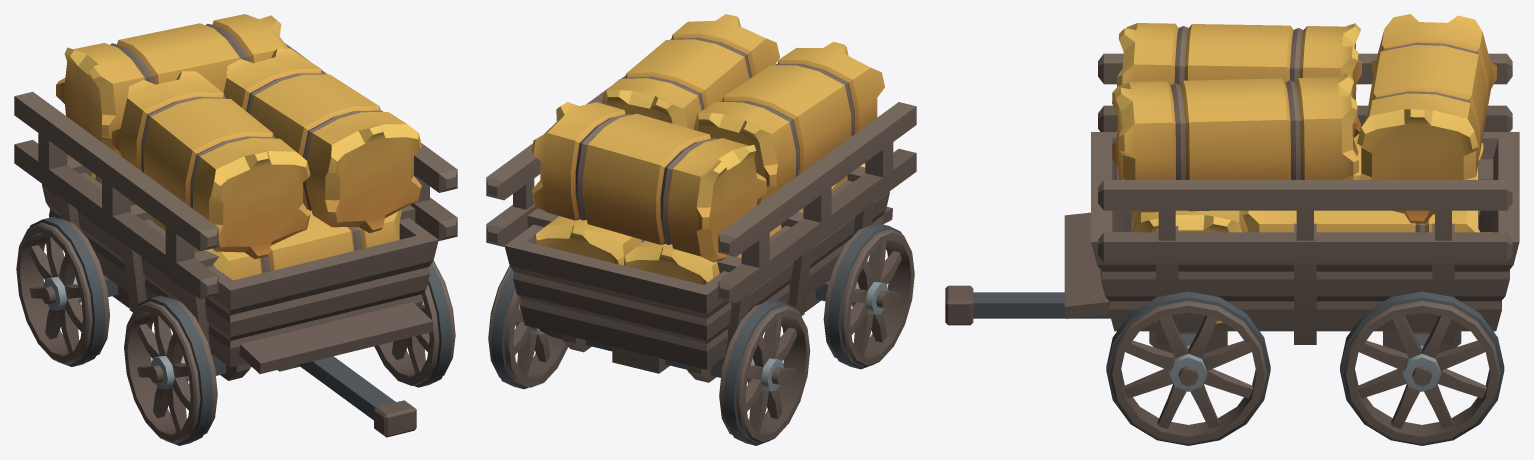
The model's file is vehicle_wagon_hay.glb.
3 renders of one model, left to right at view 1: azimuth 30°, elevation 25°; view 2: azimuth 150°, elevation 25°; view 3: azimuth 270°, elevation 25°, orthographic. The views are drawn at different scales.
Visible parts, largest first — view 1: Cube.937, wagon_hay_wheel_front_right, wagon_hay_wheel_rear_right, wagon_hay_wheel_front_left; view 2: Cube.937, wagon_hay_wheel_front_right, wagon_hay_wheel_rear_right, wagon_hay_wheel_rear_left; view 3: Cube.937, wagon_hay_wheel_front_left, wagon_hay_wheel_rear_left.
Part boxes in pixels (x1=…): Cube.937: x1=14, y1=14, x2=457, y2=437; wagon_hay_wheel_front_right: x1=124, y1=295, x2=217, y2=445; wagon_hay_wheel_rear_right: x1=16, y1=216, x2=109, y2=366; wagon_hay_wheel_front_left: x1=374, y1=260, x2=455, y2=387; Cube.937: x1=486, y1=14, x2=916, y2=382; wagon_hay_wheel_front_right: x1=823, y1=223, x2=914, y2=369; wagon_hay_wheel_rear_right: x1=719, y1=300, x2=810, y2=445; wagon_hay_wheel_rear_left: x1=488, y1=266, x2=568, y2=389; Cube.937: x1=945, y1=14, x2=1519, y2=353; wagon_hay_wheel_front_left: x1=1106, y1=291, x2=1270, y2=445; wagon_hay_wheel_rear_left: x1=1340, y1=291, x2=1504, y2=445.
Bounding box in the file's own units: 2.97 × 3.05 × 4.99.
1 material, 1 textured.
